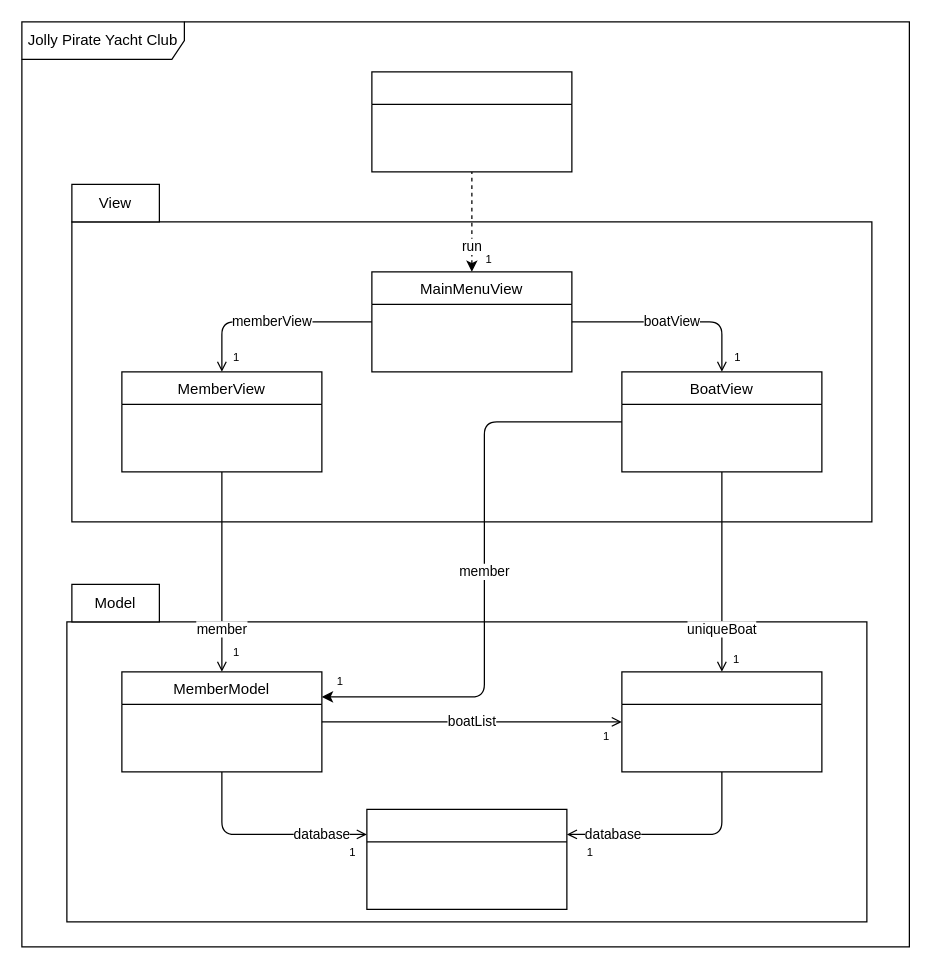
This 931x969 diagram has some shape labels left out. Each missing label, with the centre of its shape:
BoatModel: [721,721]
DatabaseModel: [466,858]
Program: [471,121]
